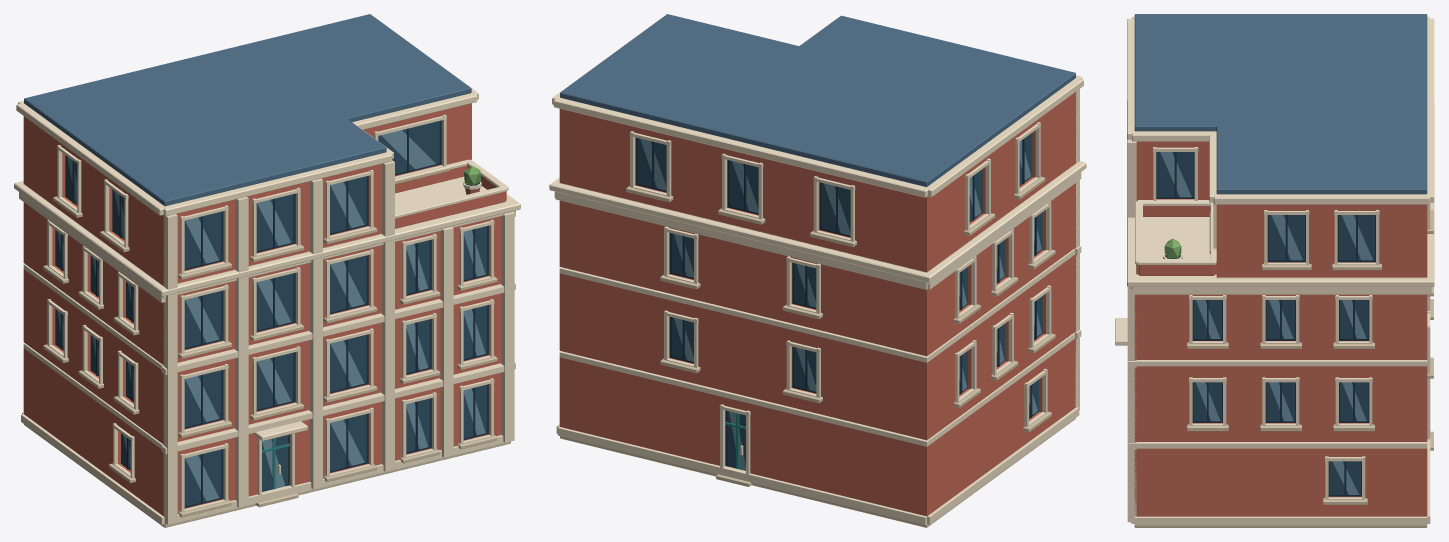
Rendered from vertical_pier_apartments.glb.
3 renders of one model, left to right at view 1: azimuth 30°, elevation 25°; view 2: azimuth 150°, elevation 25°; view 3: azimuth 270°, elevation 25°, orthographic. The views are drawn at different scales.
Parts seen in each view (by area): view 1: VerticalPierApartments_StaticMesh; view 2: VerticalPierApartments_StaticMesh; view 3: VerticalPierApartments_StaticMesh.
Part boxes in pixels (x1=…): VerticalPierApartments_StaticMesh: x1=14, y1=14, x2=520, y2=527; VerticalPierApartments_StaticMesh: x1=549, y1=14, x2=1086, y2=527; VerticalPierApartments_StaticMesh: x1=1115, y1=14, x2=1434, y2=527.
Size of the model in its own units: 14.72 by 12.79 by 10.93.
